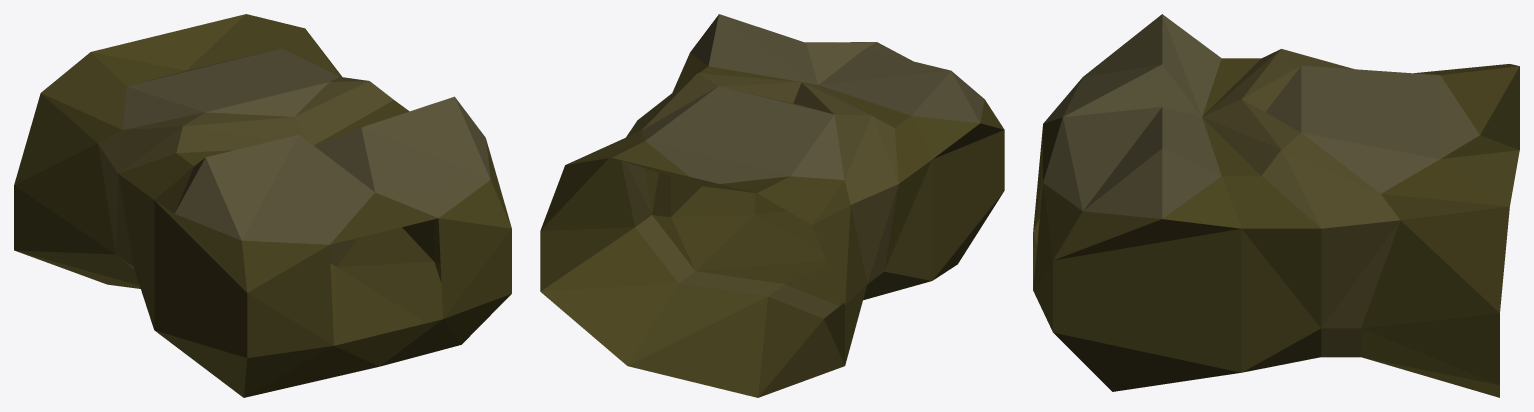
Rendered from inv_hardleather_body.obj.
3 views of the same model, side by side, from view 1: azimuth 30°, elevation 25°; view 2: azimuth 150°, elevation 25°; view 3: azimuth 270°, elevation 25° (orthographic). The views are drawn at different scales.
Size of the model in its own units: 0.3281 by 0.2422 by 0.3828.
